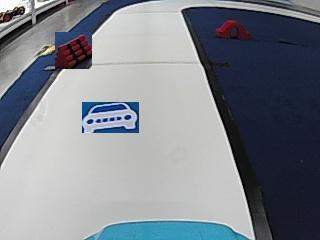bridge: (215, 19, 249, 40)
